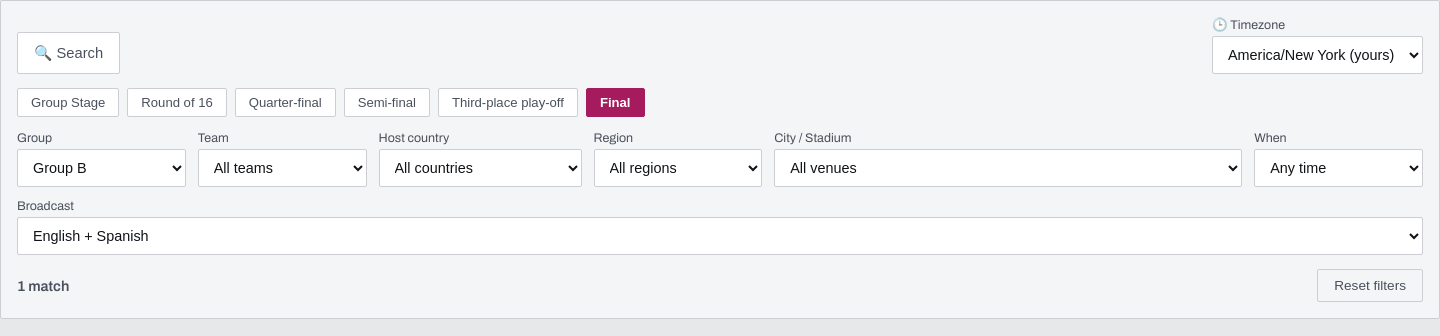
Test case: Filters › shows singular result count and resets filters
Expected: the text "1 match" is shown, [17, 278, 69, 294]
What coordinates should you click on to do the following:
click the button "Reset filters"
I would click on:
 (1370, 286)
Its box is [1317, 269, 1423, 302].
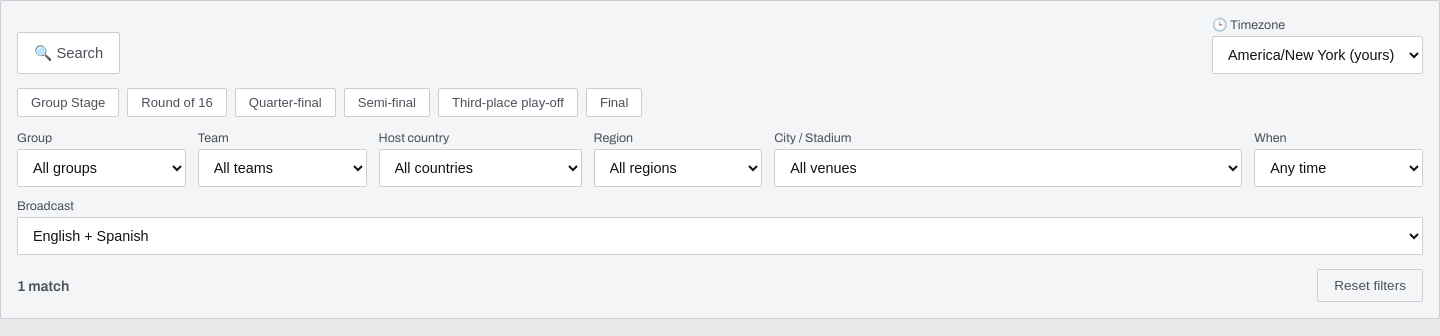
Result: the dropdown labelled "Group" shows "All groups" at [17, 149, 186, 187]
